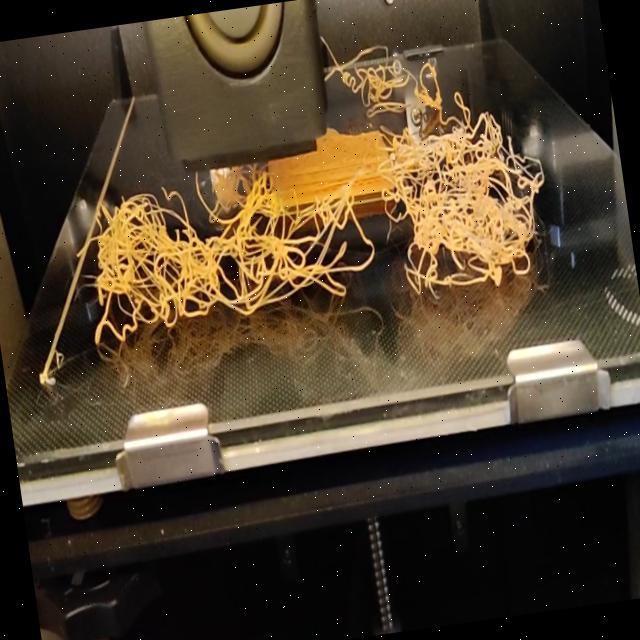spaghetti: (68, 123, 563, 360), (318, 14, 498, 153)
